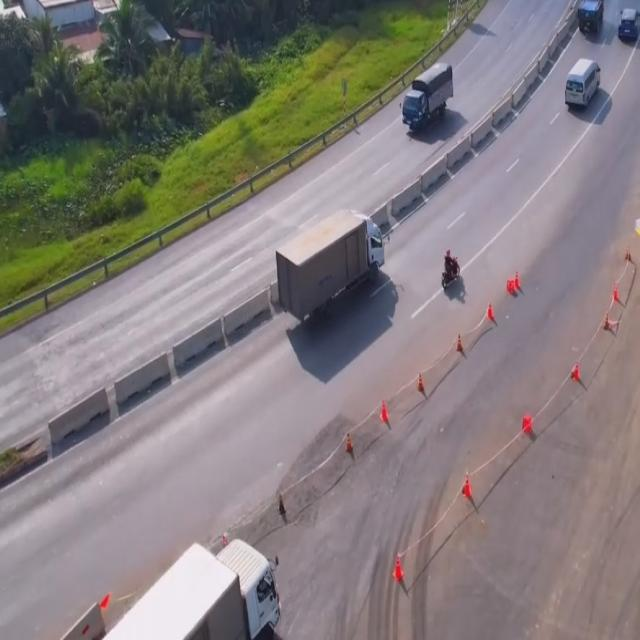car: (564, 56, 600, 108), (617, 2, 640, 45)
motorbike: (441, 249, 462, 293)
truck: (101, 537, 280, 638), (276, 211, 385, 320), (401, 61, 453, 138), (576, 0, 607, 40)
